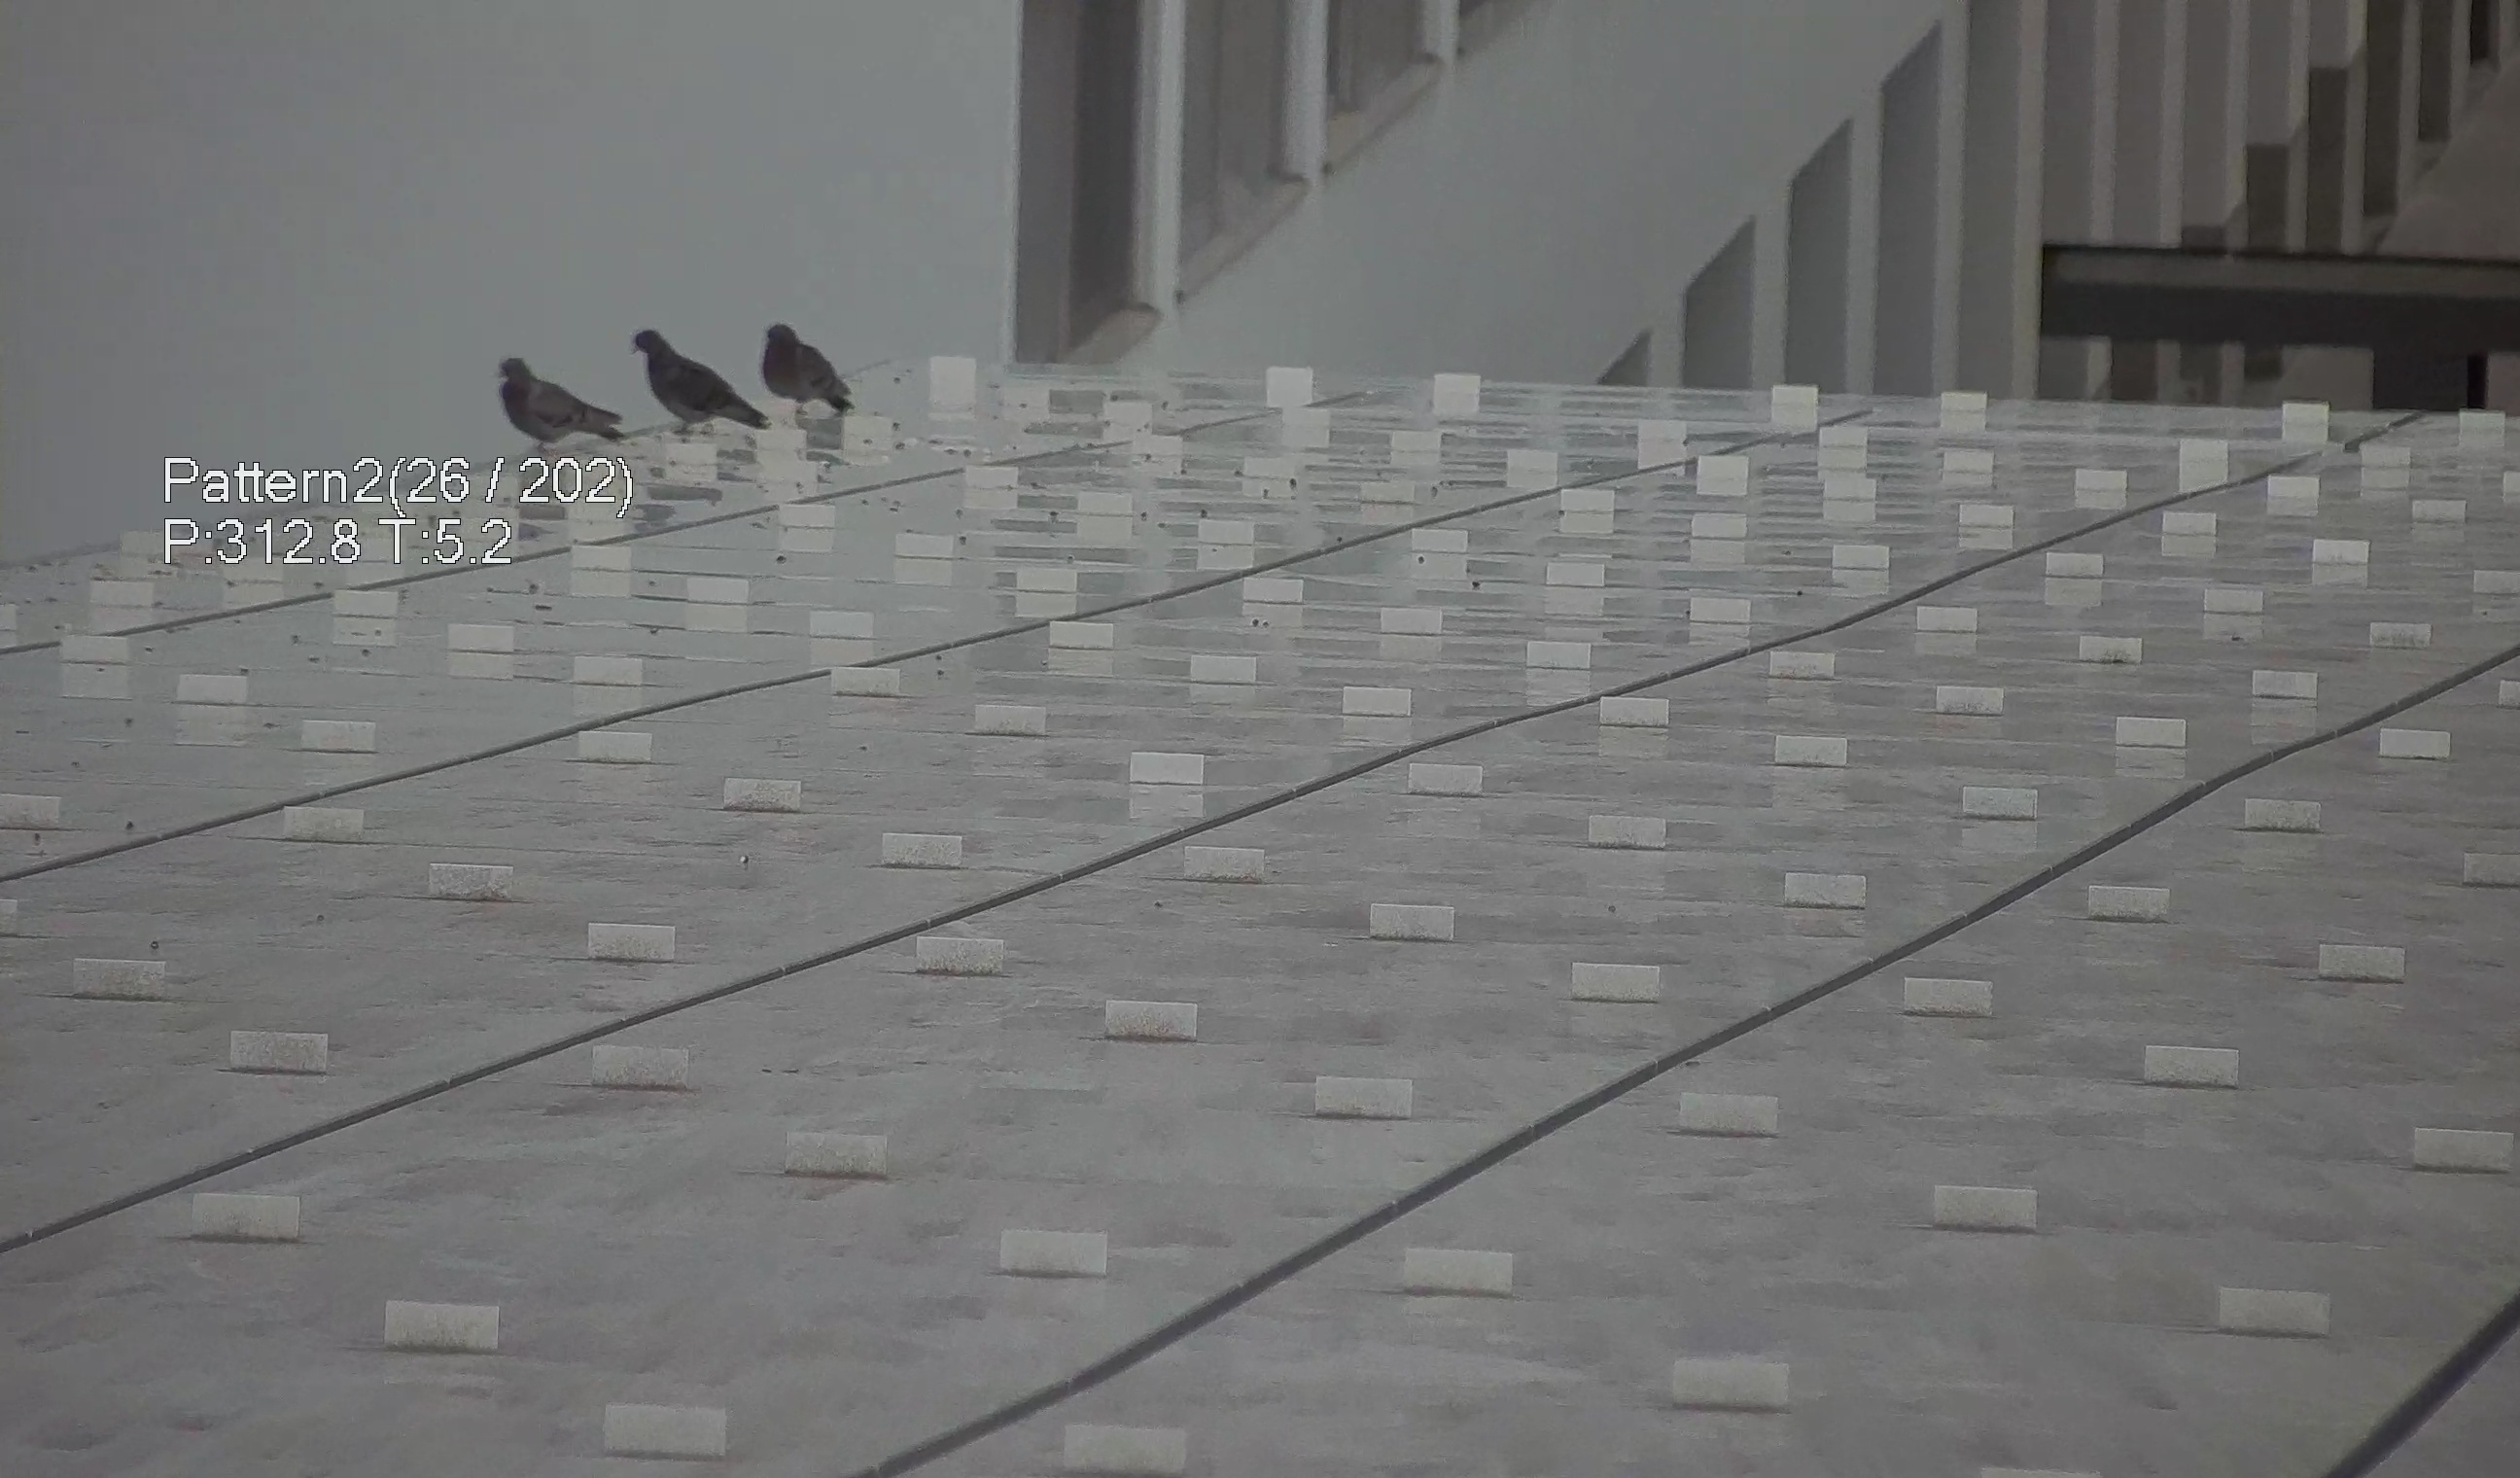Pigeon: (624, 318, 761, 440), (480, 343, 626, 452), (744, 308, 856, 419)
